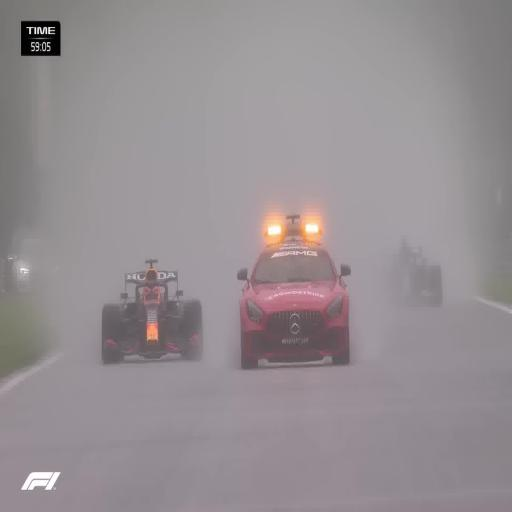f1_car: (102, 259, 203, 362), (391, 238, 442, 305)
